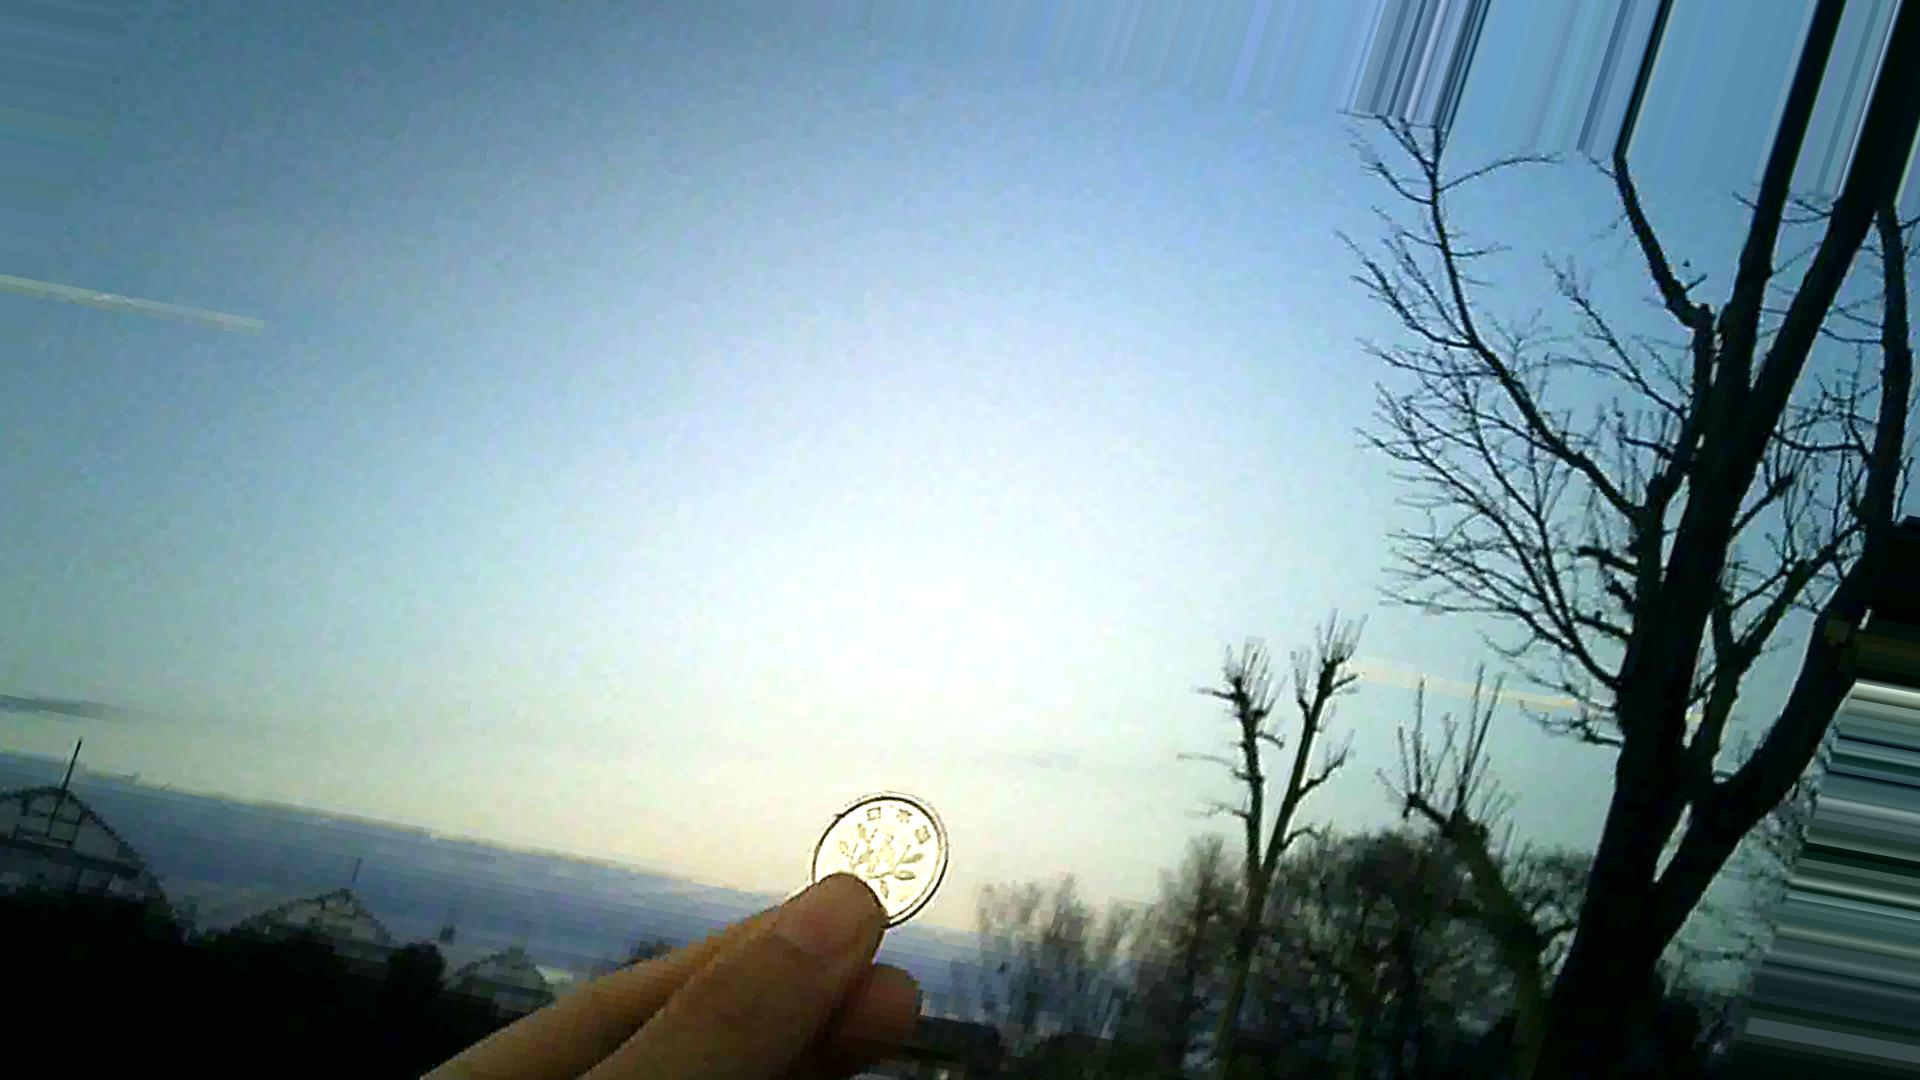1 Yen: (804, 774, 971, 942)
